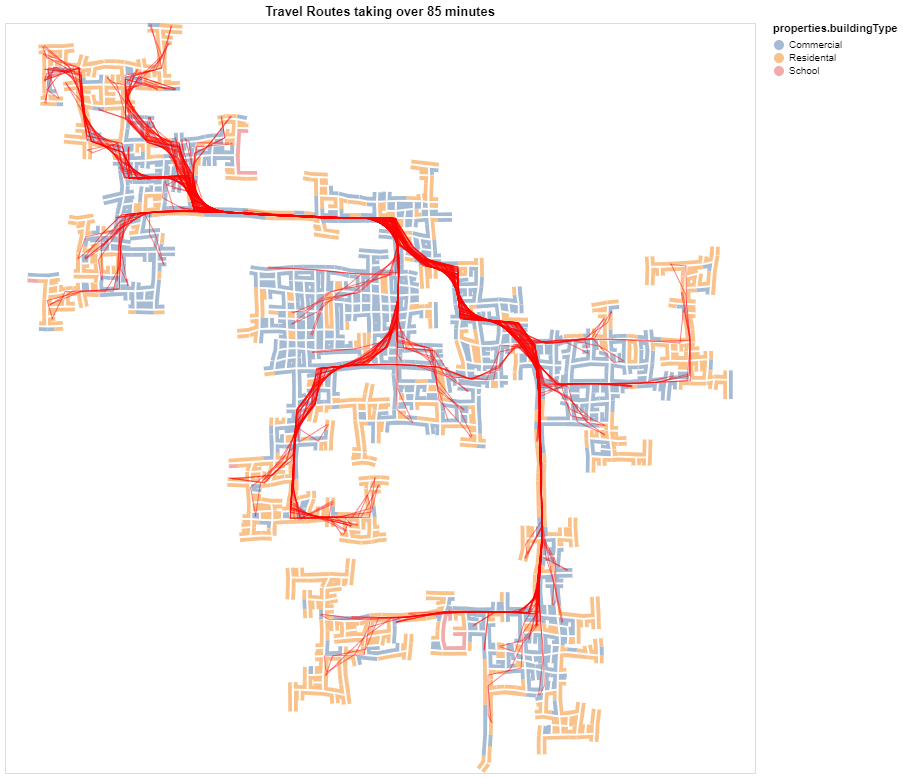

This screenshot's page, from the dashboard's own definition file:
{"tool":"tableau","page":{"name":"Commuting","canvas":[1000,800],"ordinal":0},"visuals":[{"type":"worksheet","title":"Com1","mark":"Bar","rows":["Calculation_1199927847010910214"],"cols":["Calculation_1199927847010910214"],"box":[8,8,611,392]},{"type":"currpage","title":"Com1","box":[619,8,373,110]},{"type":"worksheet","title":"Com2","mark":"Bar","rows":["Calculation_1199927847010910214"],"cols":["Calculation_1199927847017877516"],"box":[619,118,373,674]},{"type":"worksheet","title":"Com1 (2)","mark":"Bar","rows":["Calculation_1199927847016251403"],"cols":["Calculation_1199927847010910214"],"box":[8,400,611,392]},{"type":"legend","title":"Com1 (2)","param":"[federated.05kswc71y1rtdp1422o2c0ndn2dp].[cnt:Calculation_1199927847010910214:qk","box":[117,712,346,52]}]}

Visuals, with their boxes on the page's 1000x800 design canvas (x1, y1, x2, y2). These are canvas units, not pixel positions in the 903x778 screenshot, which may show the page scaled, cropped or inside an application window:
"Com1" worksheet (Bar marks): 8/8/619/400
"Com1" currpage: 619/8/992/118
"Com2" worksheet (Bar marks): 619/118/992/792
"Com1 (2)" worksheet (Bar marks): 8/400/619/792
"Com1 (2)" legend: 117/712/463/764
